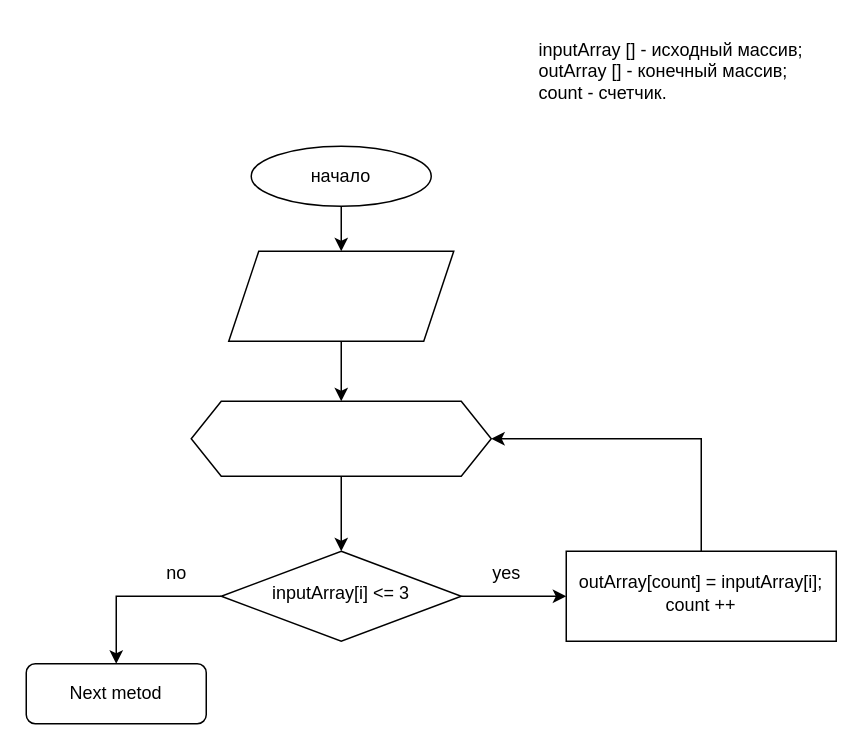
The diagram is 863 pixels wide and 750 high, and some of its shapes have lost their labels. Here are the shapes that lost their labels. From the top down, the box of each, then its label:
(227, 250, 454, 341): inputArray [], outArray [], count=0
(190, 400, 491, 476): i=0; i < inputArray.Length; i++
